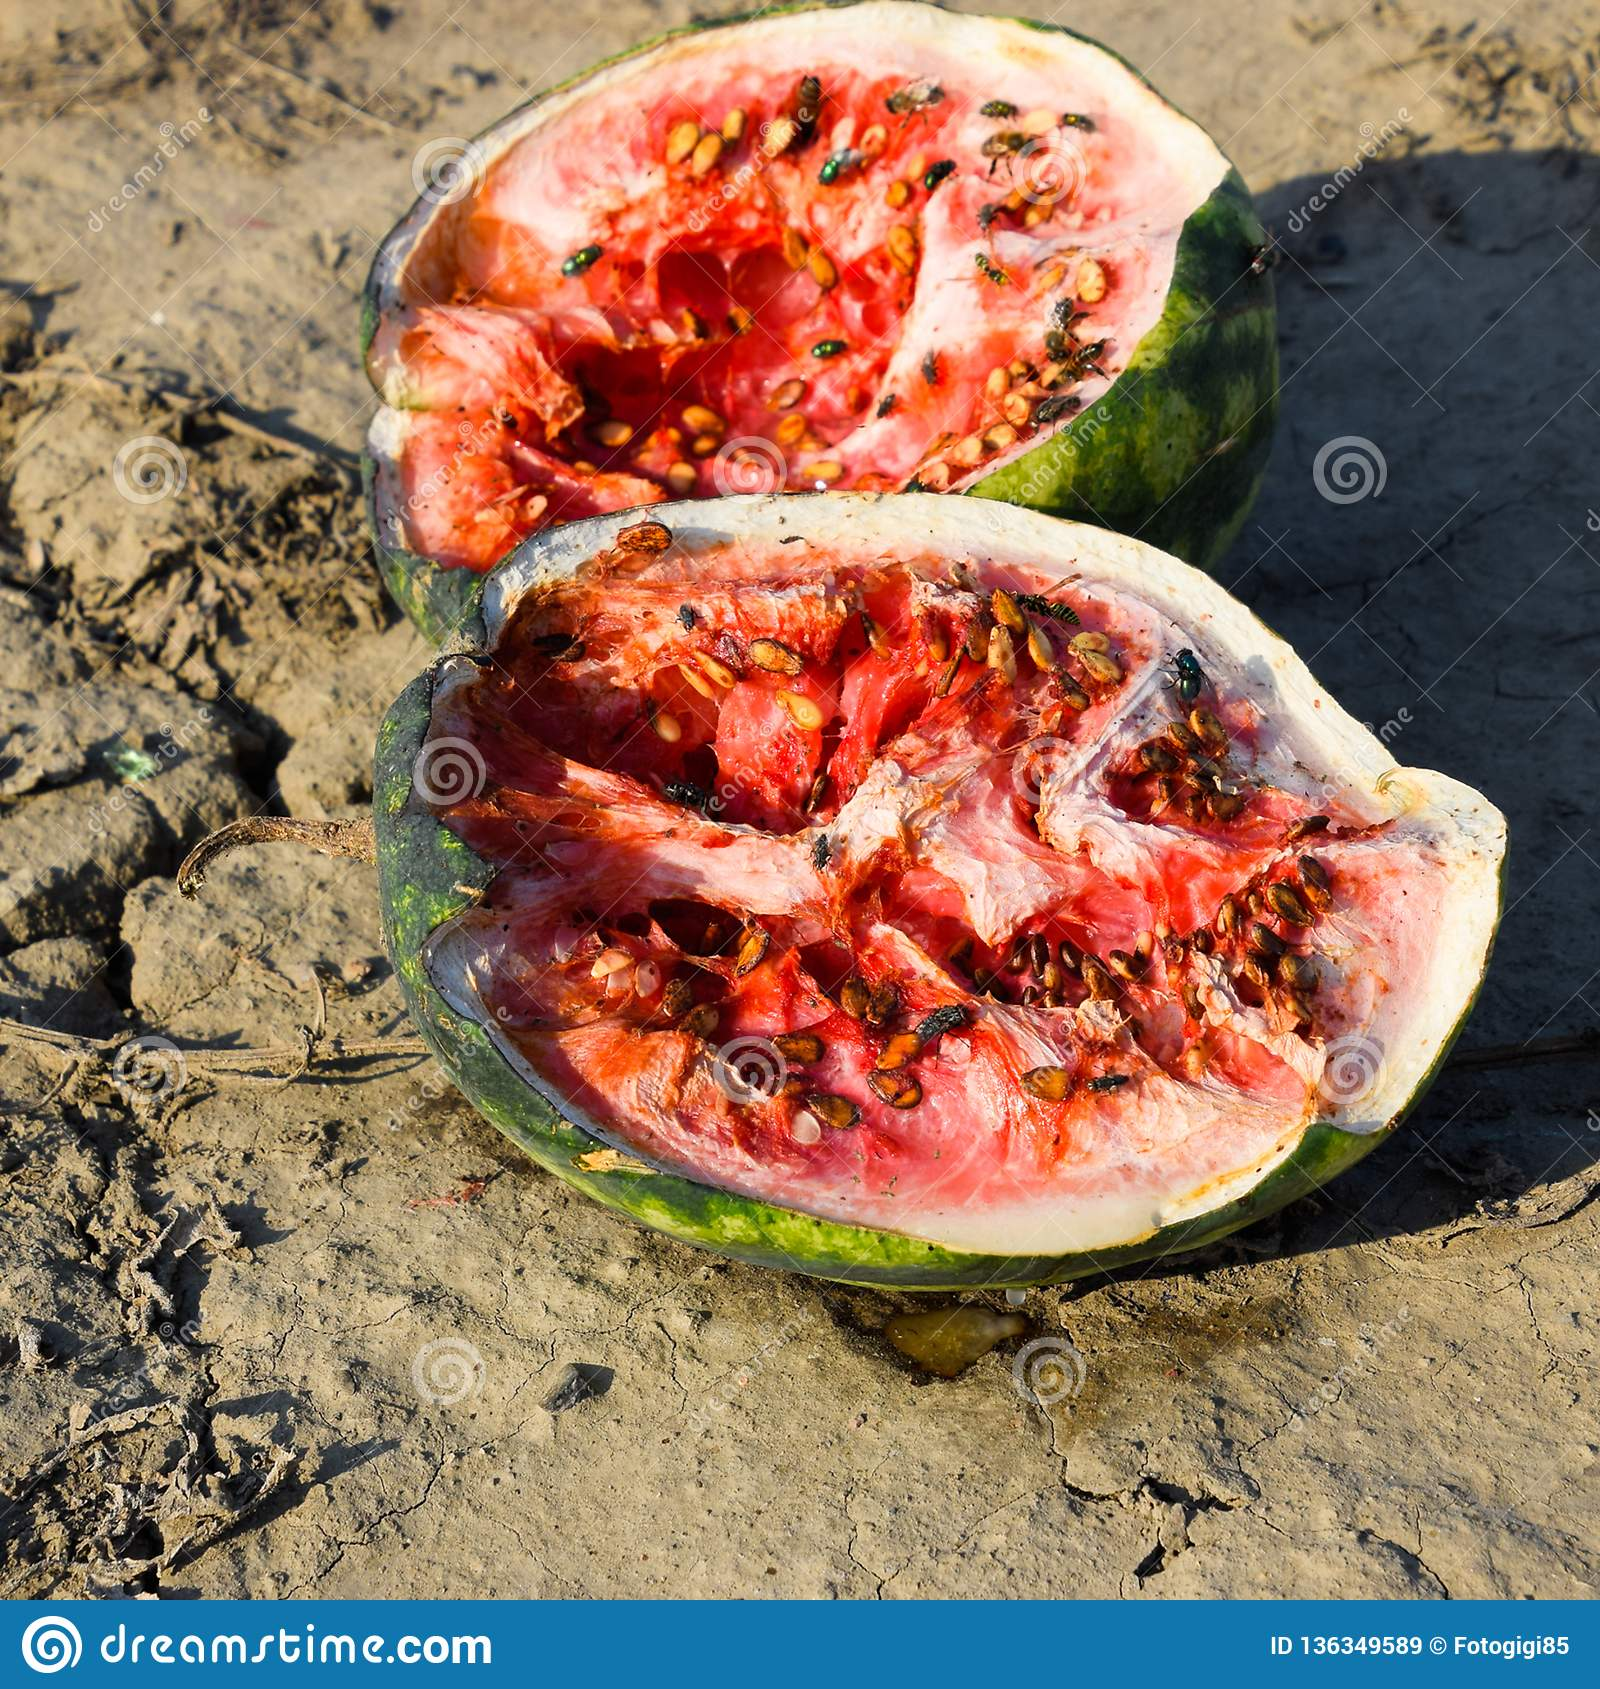damaged_watermelon: (424, 522, 1417, 1266), (402, 17, 1227, 594)
